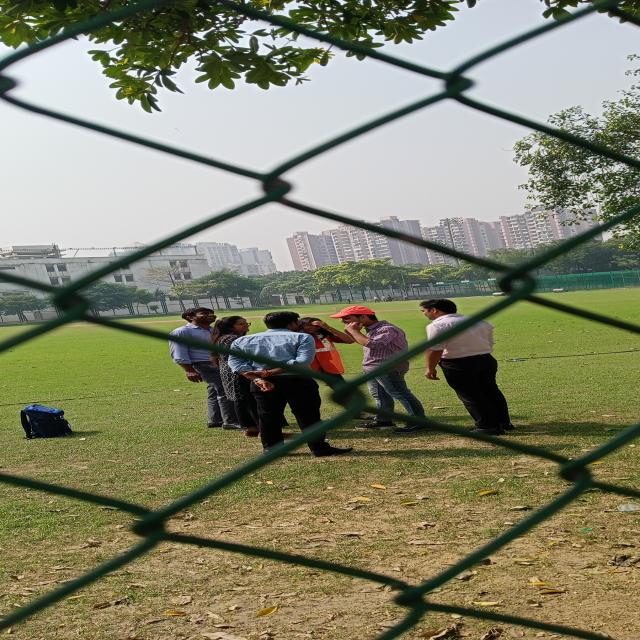unsafe: (233, 311, 353, 457), (414, 298, 519, 438), (325, 304, 432, 435), (168, 306, 222, 432)
